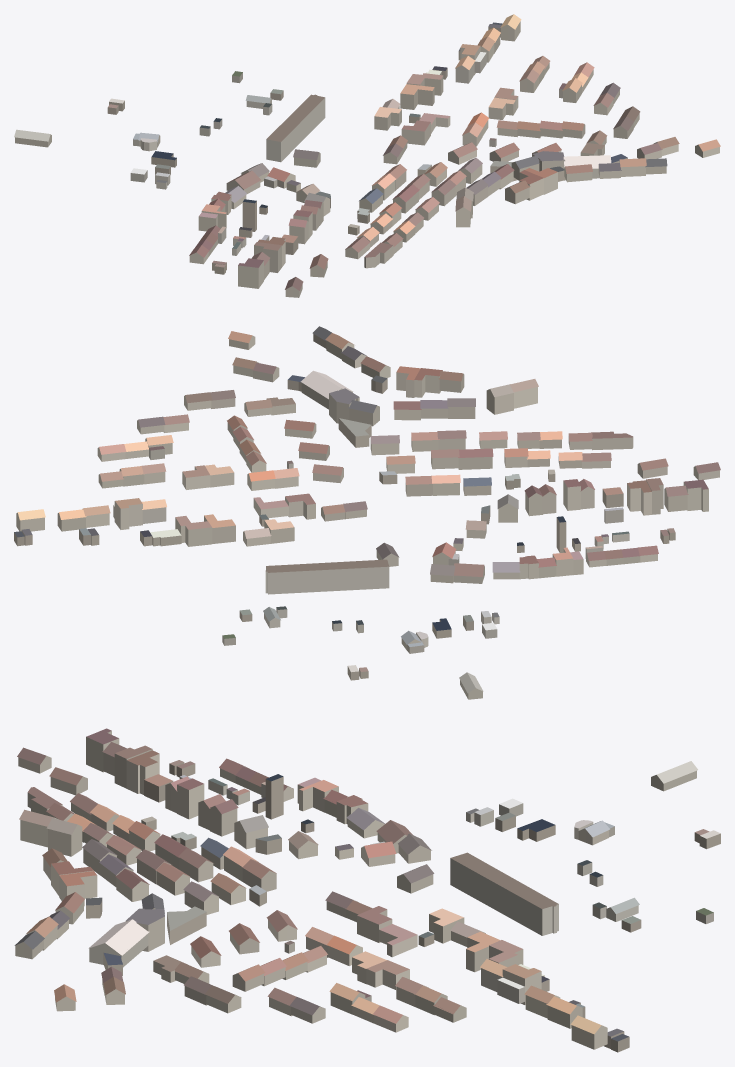
3 views of the same model, one above another, from view 1: azimuth 30°, elevation 25°; view 2: azimuth 150°, elevation 25°; view 3: azimuth 270°, elevation 25° (orthographic). The views are drawn at different scales.
Visible parts, largest first — view 1: tuile; view 2: tuile; view 3: tuile.
Boxes of the visible parts, x1,y1,x2,y2 form: tuile: (14, 14, 720, 297); tuile: (14, 326, 720, 699); tuile: (14, 728, 720, 1052).
Size of the model in its own units: 261 by 38.32 by 254.
